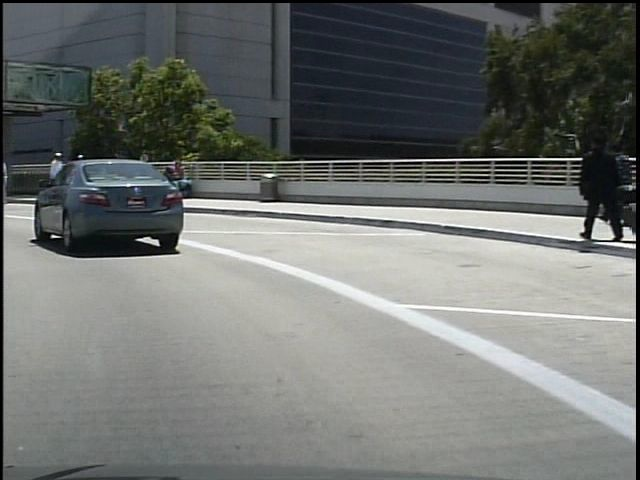person: (566, 130, 625, 249), (600, 139, 636, 236), (43, 149, 63, 200), (69, 151, 89, 201)
